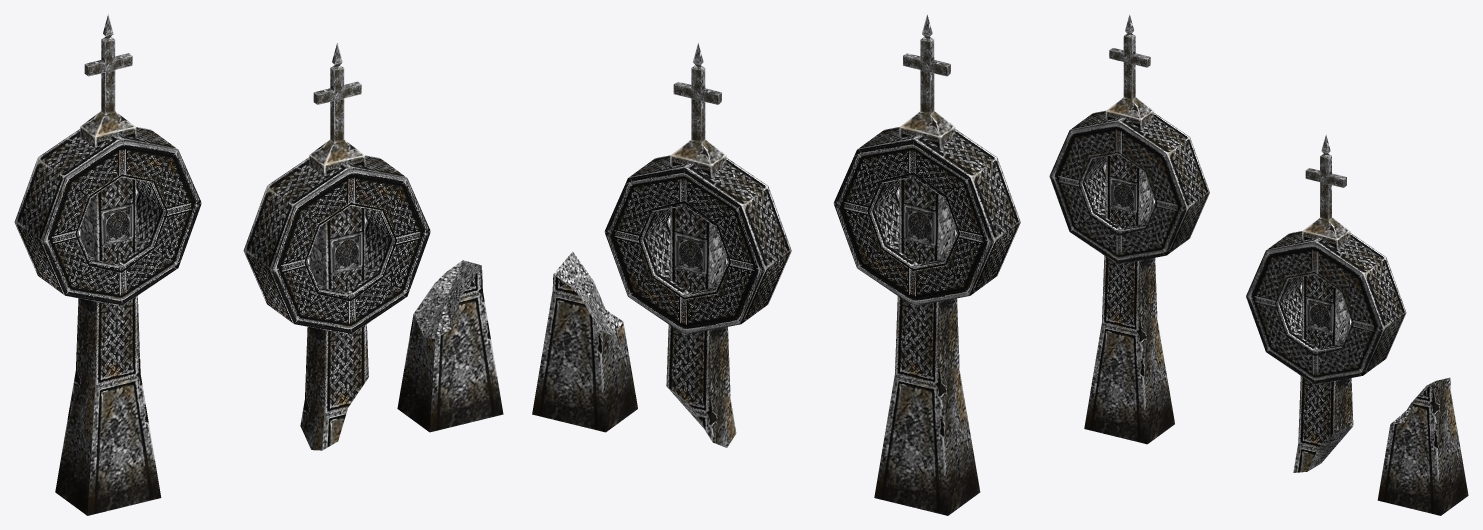
The model's file is stone_top_suk.FBX.
The picture shows the model from 3 angles, left to right: view 1: azimuth 30°, elevation 25°; view 2: azimuth 150°, elevation 25°; view 3: azimuth 330°, elevation 25°; orthographic projection. The views are drawn at different scales.
Visible parts, largest first — view 1: stone_top_suk, stone_top_suk_A, stone_top_suk_B; view 2: stone_top_suk, stone_top_suk_A, stone_top_suk_B; view 3: stone_top_suk, stone_top_suk_A, stone_top_suk_B.
Part boxes in pixels (box(x1,y1,x2,y2)): stone_top_suk: box(14, 14, 201, 515); stone_top_suk_A: box(243, 43, 430, 450); stone_top_suk_B: box(397, 260, 503, 432); stone_top_suk: box(833, 14, 1020, 515); stone_top_suk_A: box(604, 43, 791, 447); stone_top_suk_B: box(532, 251, 637, 432); stone_top_suk: box(1049, 14, 1209, 444); stone_top_suk_A: box(1246, 135, 1406, 472); stone_top_suk_B: box(1377, 377, 1468, 515).
Bounding box in the file's own units: 9.01 × 1.1 × 9.08.
